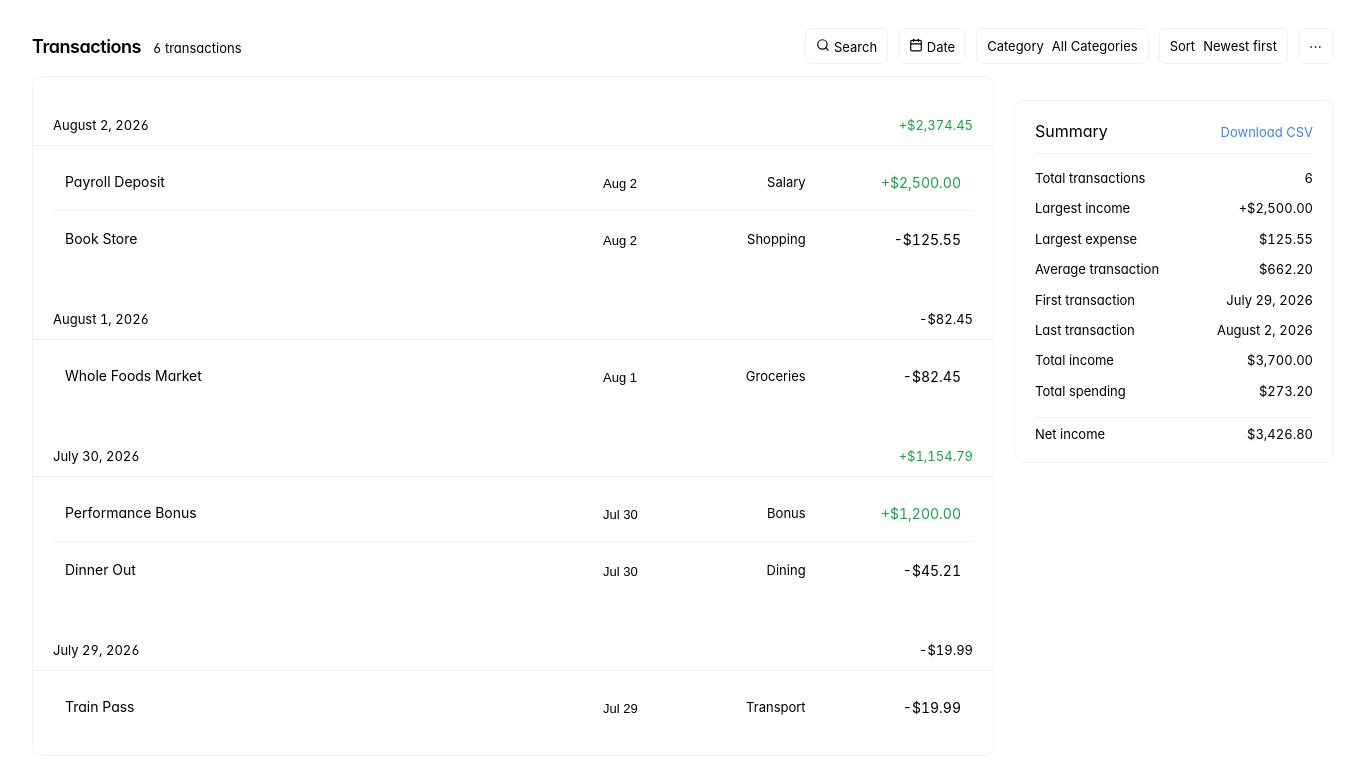
Transactions branch coverage › toggles all categories off and back on from the all-categories checkbox
This screenshot has width=1366, height=768.
Expected: the text "Book Store" is shown, [65, 230, 137, 246]
Click the button "Category All Categories". click: (1062, 46)
box: [976, 28, 1149, 64]
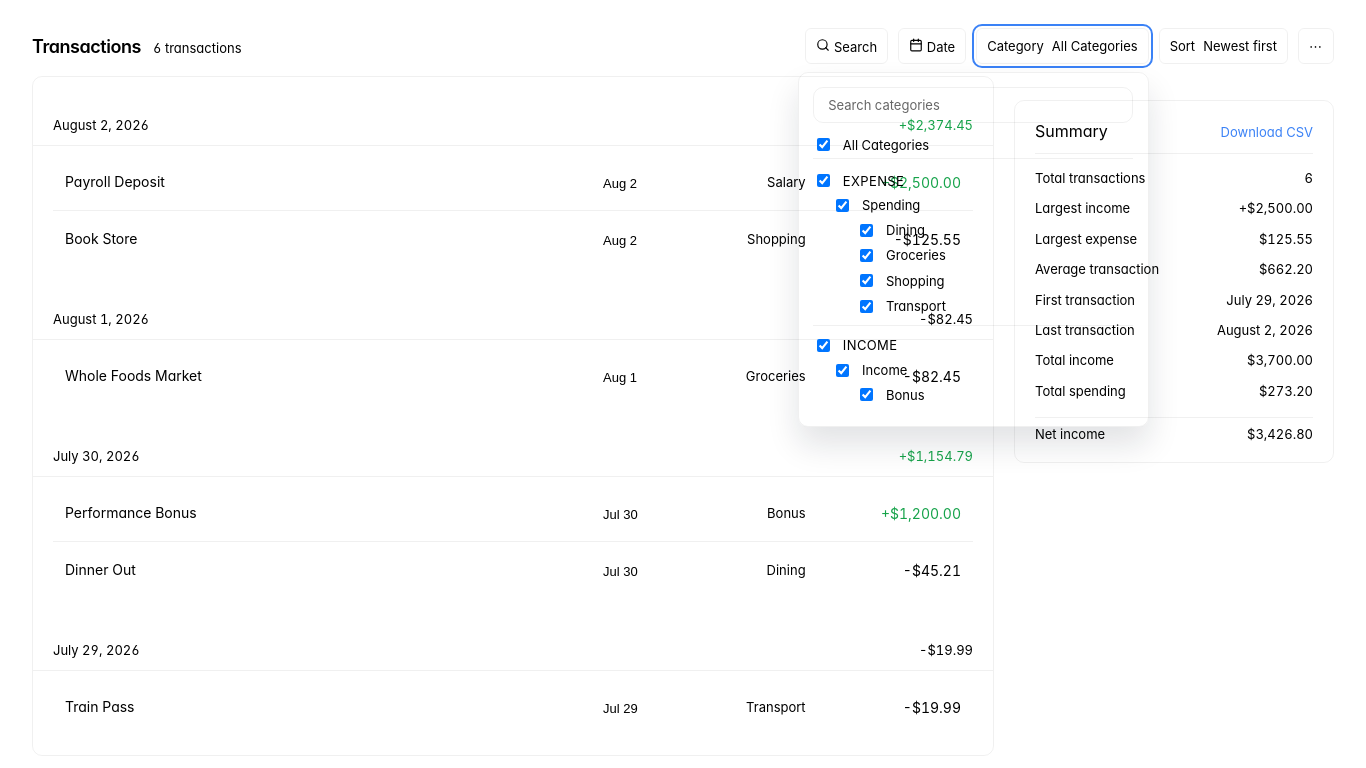
Click the checkbox labelled "All Categories". click: (824, 145)
box: [817, 138, 830, 151]
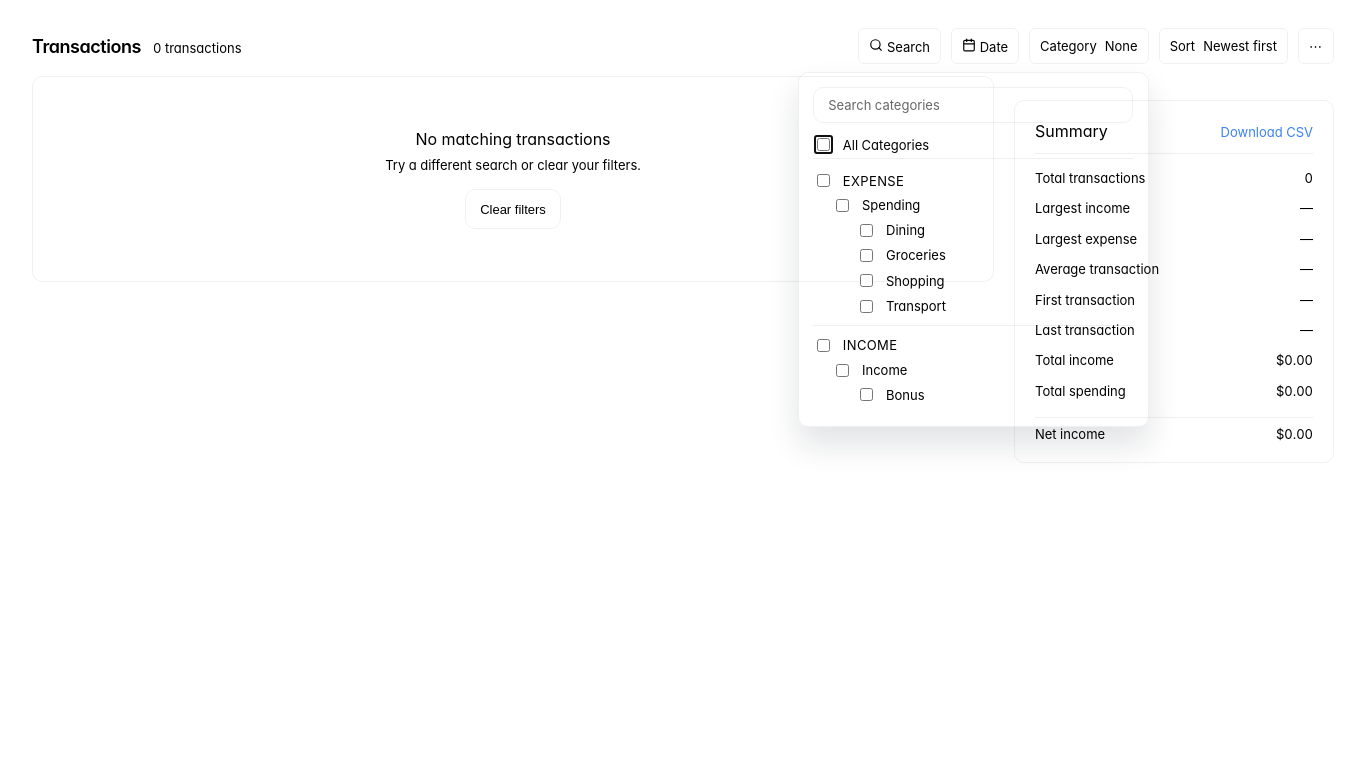
Expected: the button "None" is shown, [1105, 38, 1138, 54]
Expected: the heading "No matching transactions" is shown, [415, 129, 610, 149]
Click the checkbox labelled "All Categories". click: (824, 145)
box: [817, 138, 830, 151]
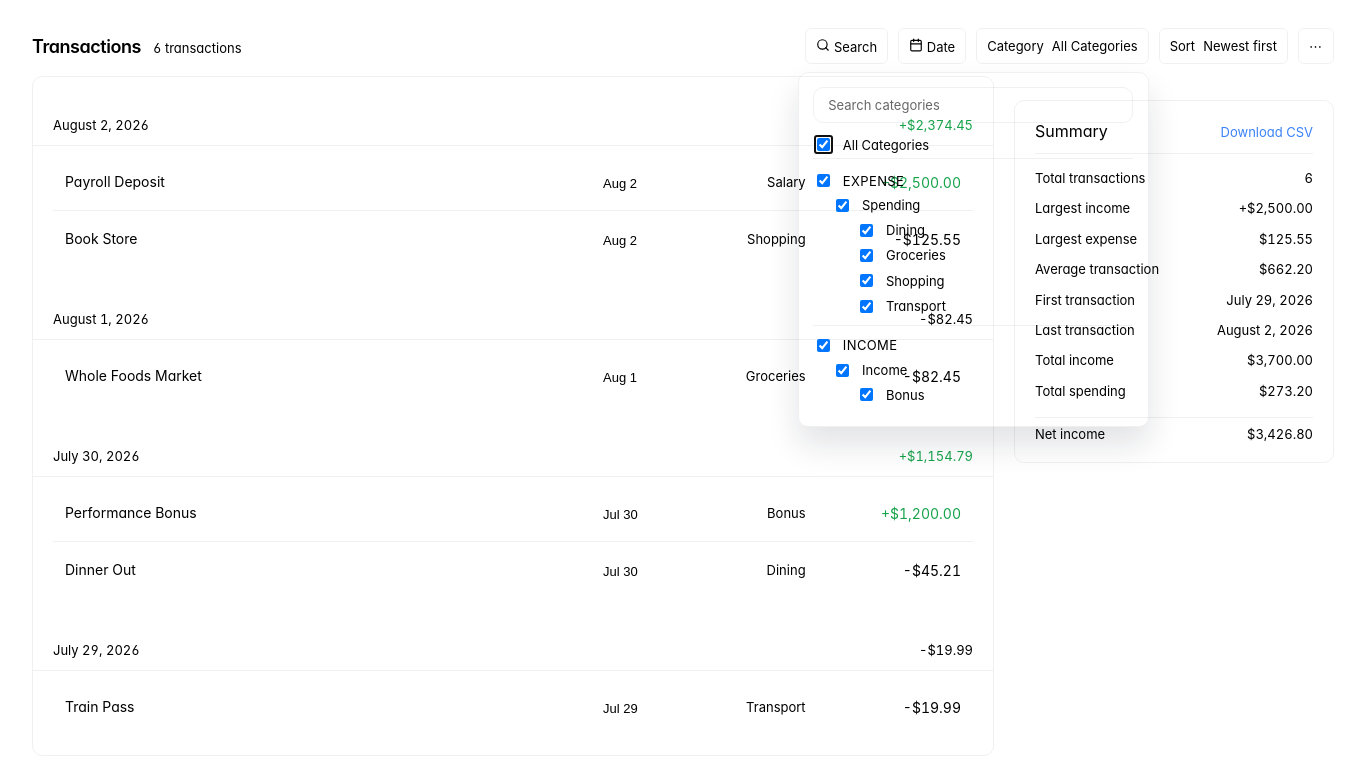
Expected: the button "Category All Categories" is shown, [976, 28, 1149, 64]
Expected: the text "Book Store" is shown, [65, 230, 137, 246]
